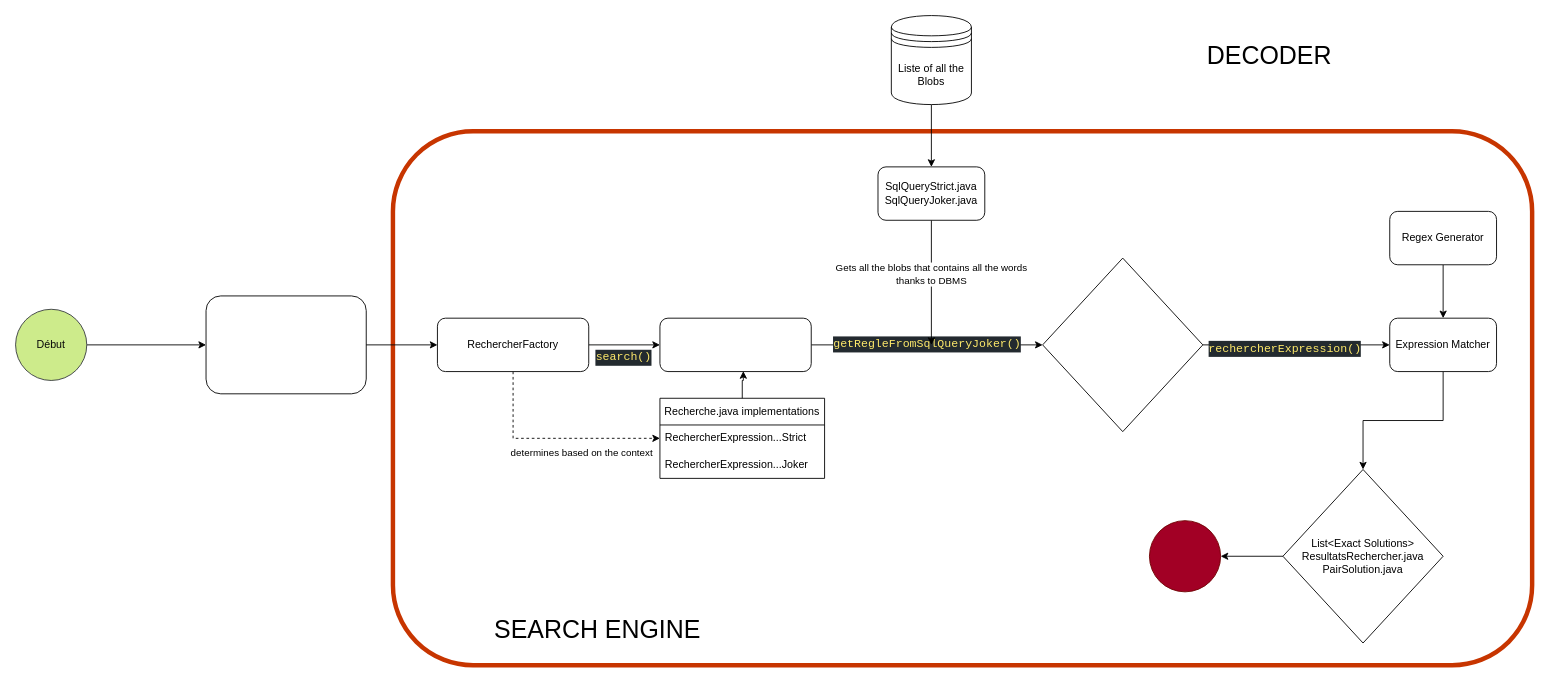
The diagram is 1549 pixels wide and 683 high, and some of its shapes have lost their labels. Here are the shapes that lost their labels. From the top down, the box of each, then its label:
(205, 295, 366, 394): Creation of the research context ContexteRecherche.java
(659, 317, 811, 372): RECHERCHE
(1042, 257, 1203, 432): List<Possible Solutions> Map<RegleId, Text>
(1149, 520, 1221, 592): FIN
